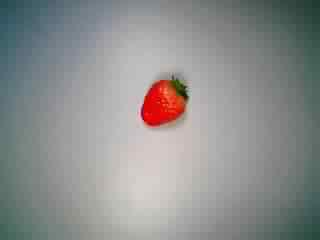strawberry: (129, 74, 198, 130)
